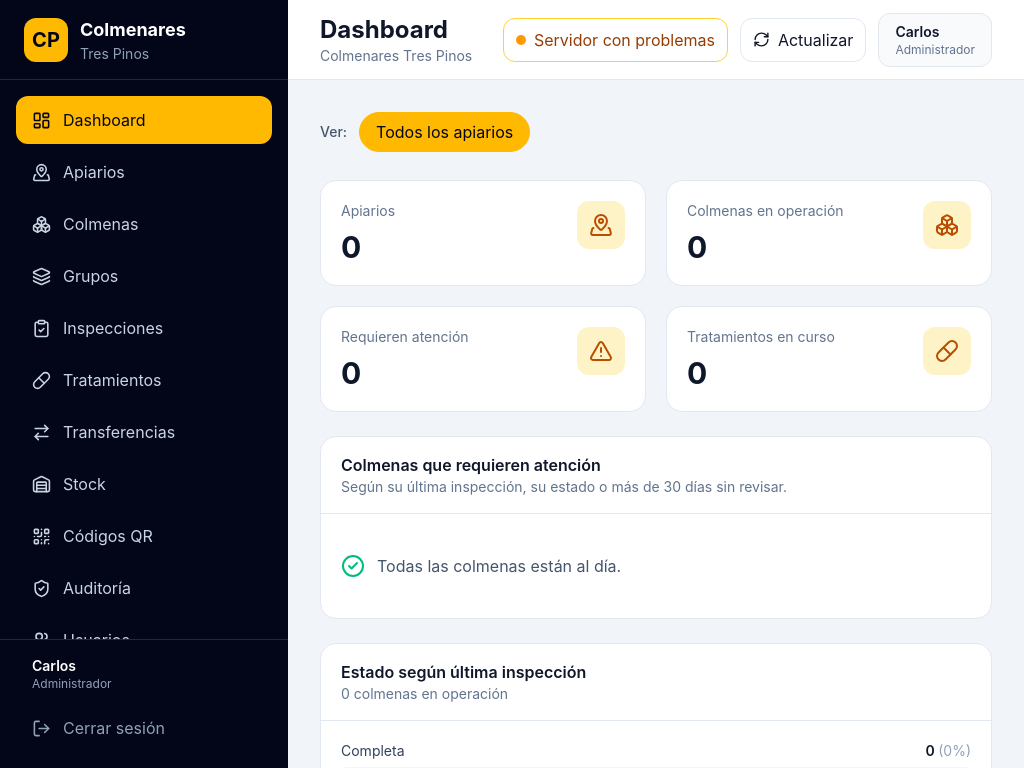
Scenario: si el logout falla, la sesión sigue abierta y se avisa
Expected: the heading "Colmenas que requieren atención" is shown, [341, 455, 601, 475]
What coordinates should you click on to do the following:
click the button "Cerrar sesión"
I would click on:
 (144, 728)
Its box is [16, 704, 272, 752].
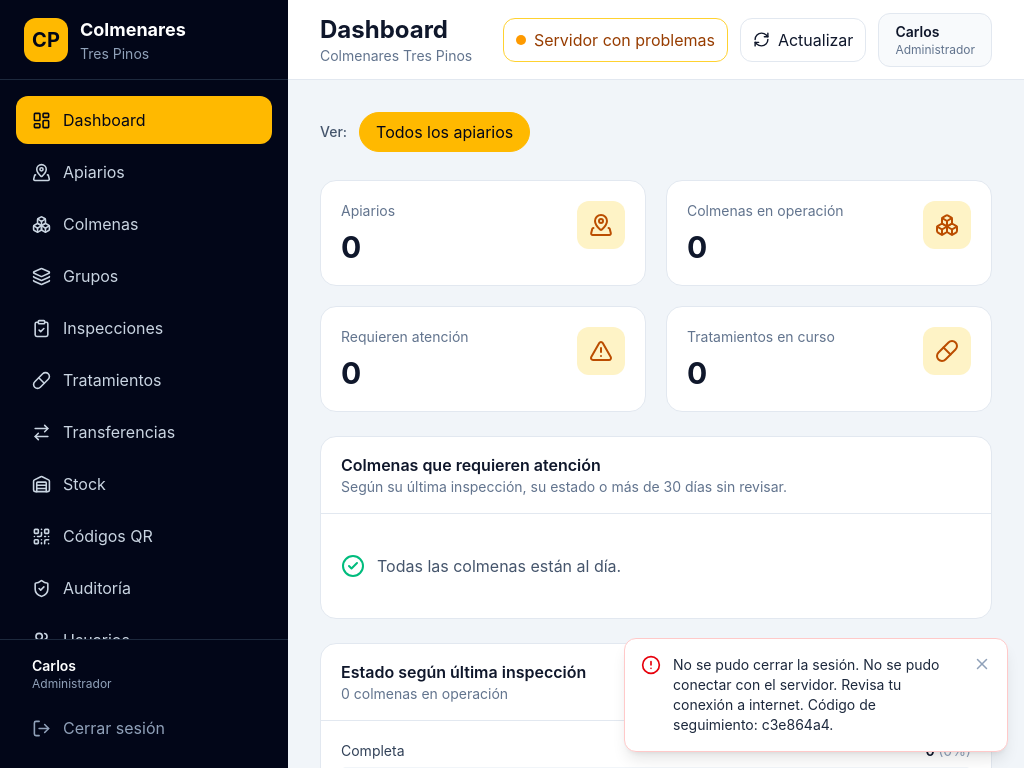
Result: the text "No se pudo cerrar la sesión" is shown at [673, 656, 940, 733]
